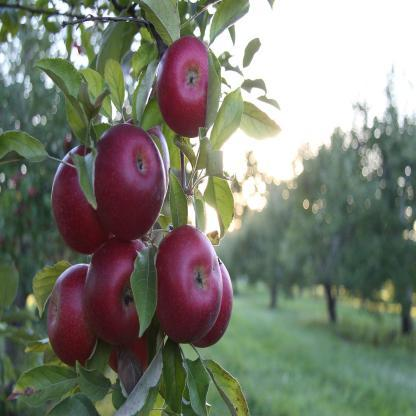Apple leaf: (32, 52, 92, 127), (6, 363, 80, 411), (128, 241, 160, 342), (210, 79, 246, 166), (0, 124, 50, 172), (242, 98, 288, 150), (207, 1, 252, 52), (160, 334, 186, 416), (75, 358, 118, 405), (104, 57, 130, 126), (165, 167, 190, 229)
